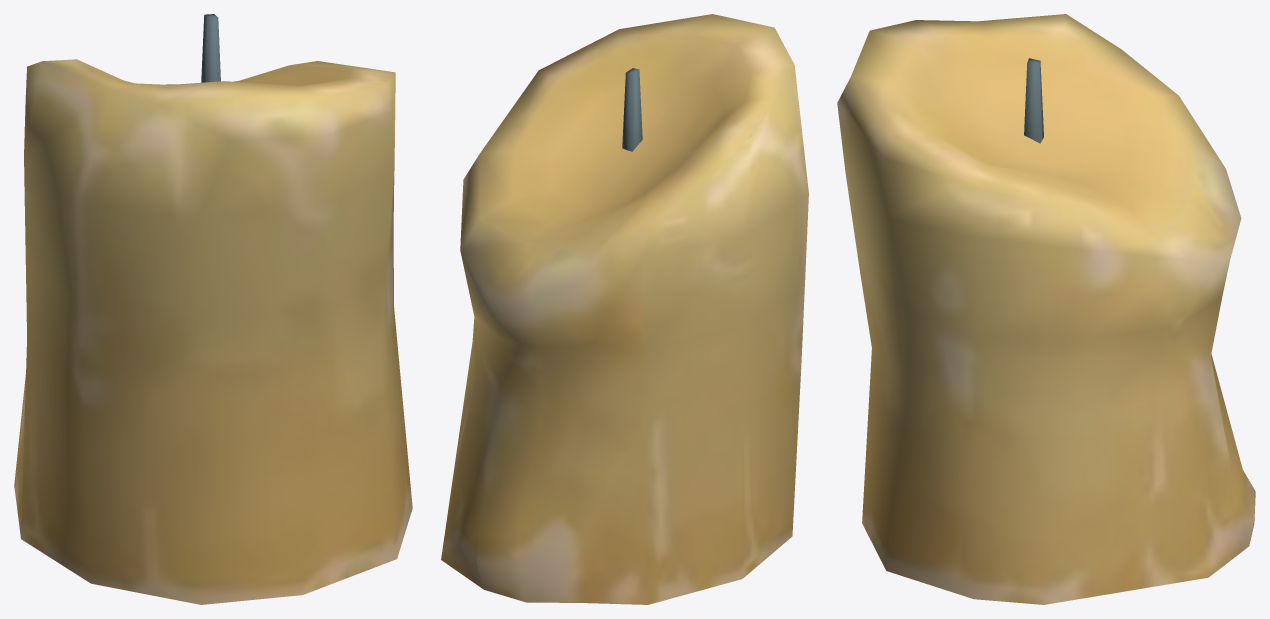
Rendered from Candle_1.glb.
3 views of the same model, side by side, from view 1: azimuth 30°, elevation 25°; view 2: azimuth 150°, elevation 25°; view 3: azimuth 270°, elevation 25° (orthographic). The views are drawn at different scales.
Parts seen in each view (by area): view 1: Candle_1; view 2: Candle_1; view 3: Candle_1.
Boxes of the visible parts, x1,y1,x2,y2 form: Candle_1: (14,14,412,604); Candle_1: (441,14,808,604); Candle_1: (837,14,1255,604).
Size of the model in its own units: 0.0939 by 0.132 by 0.1079.
1 material, 1 textured.
